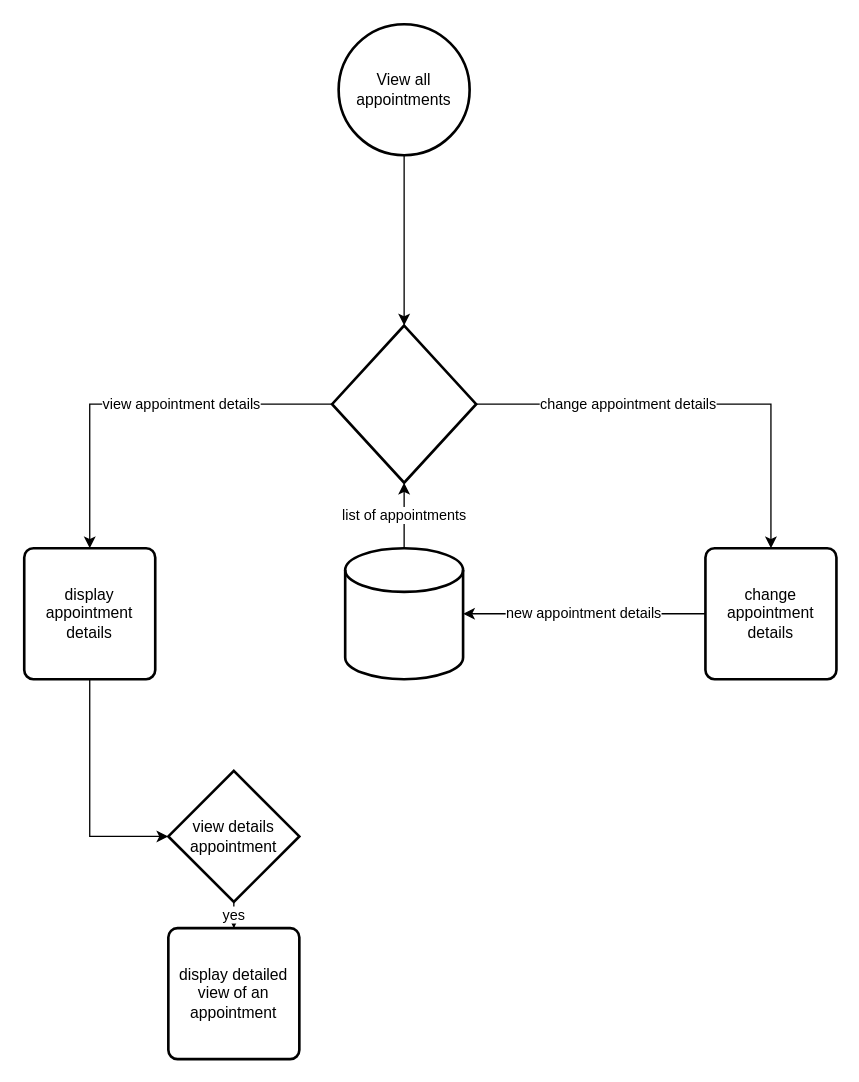
This 859x1082 diagram has some shape labels left out. The box of each missing label's shape, as (x1, y1, x2, y2) in pixels:
Appointments: (343, 546, 464, 680)
view or change appointment: (330, 324, 477, 483)
